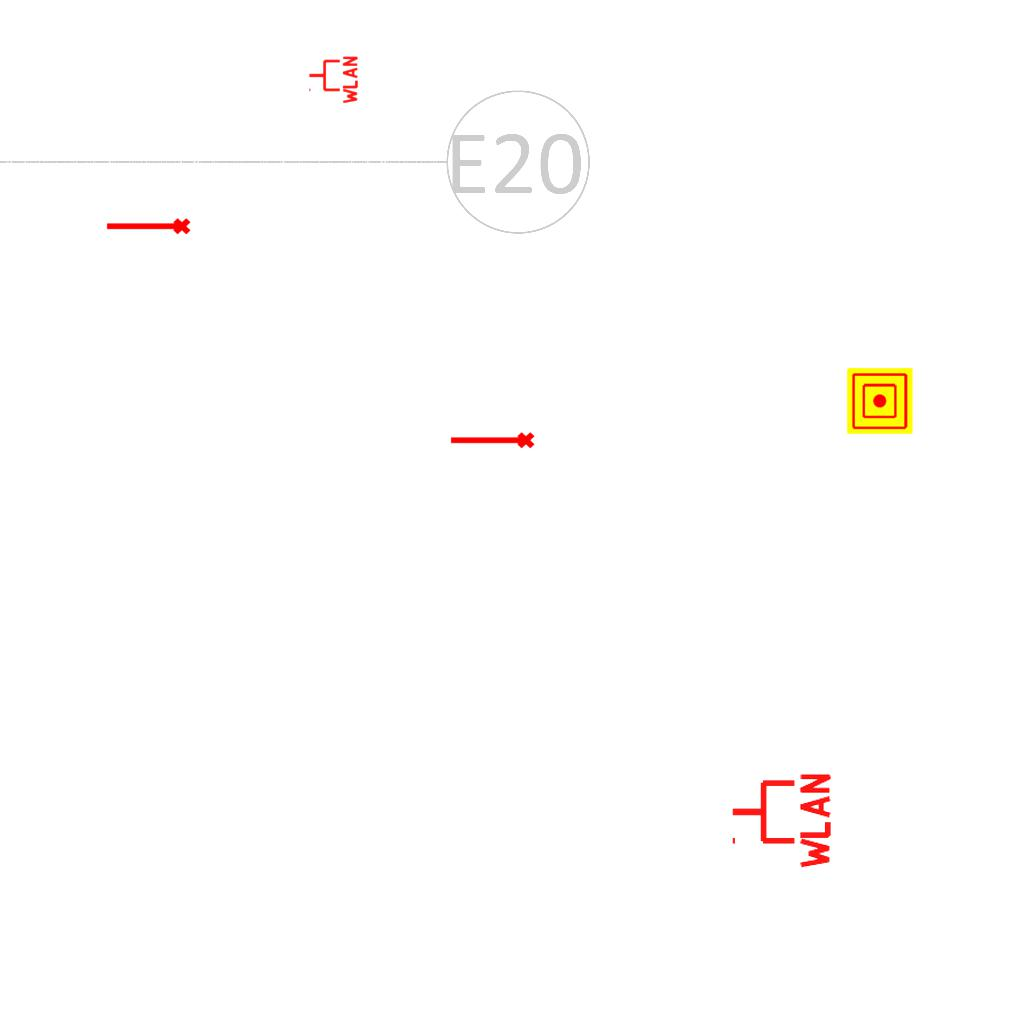ASR_Ansaugoeffnung: (448, 430, 536, 453), (104, 216, 192, 239)
NAM-Nichtautomatischer_Melder: (847, 368, 913, 434)
WLAN: (728, 769, 833, 873), (307, 54, 359, 106)
